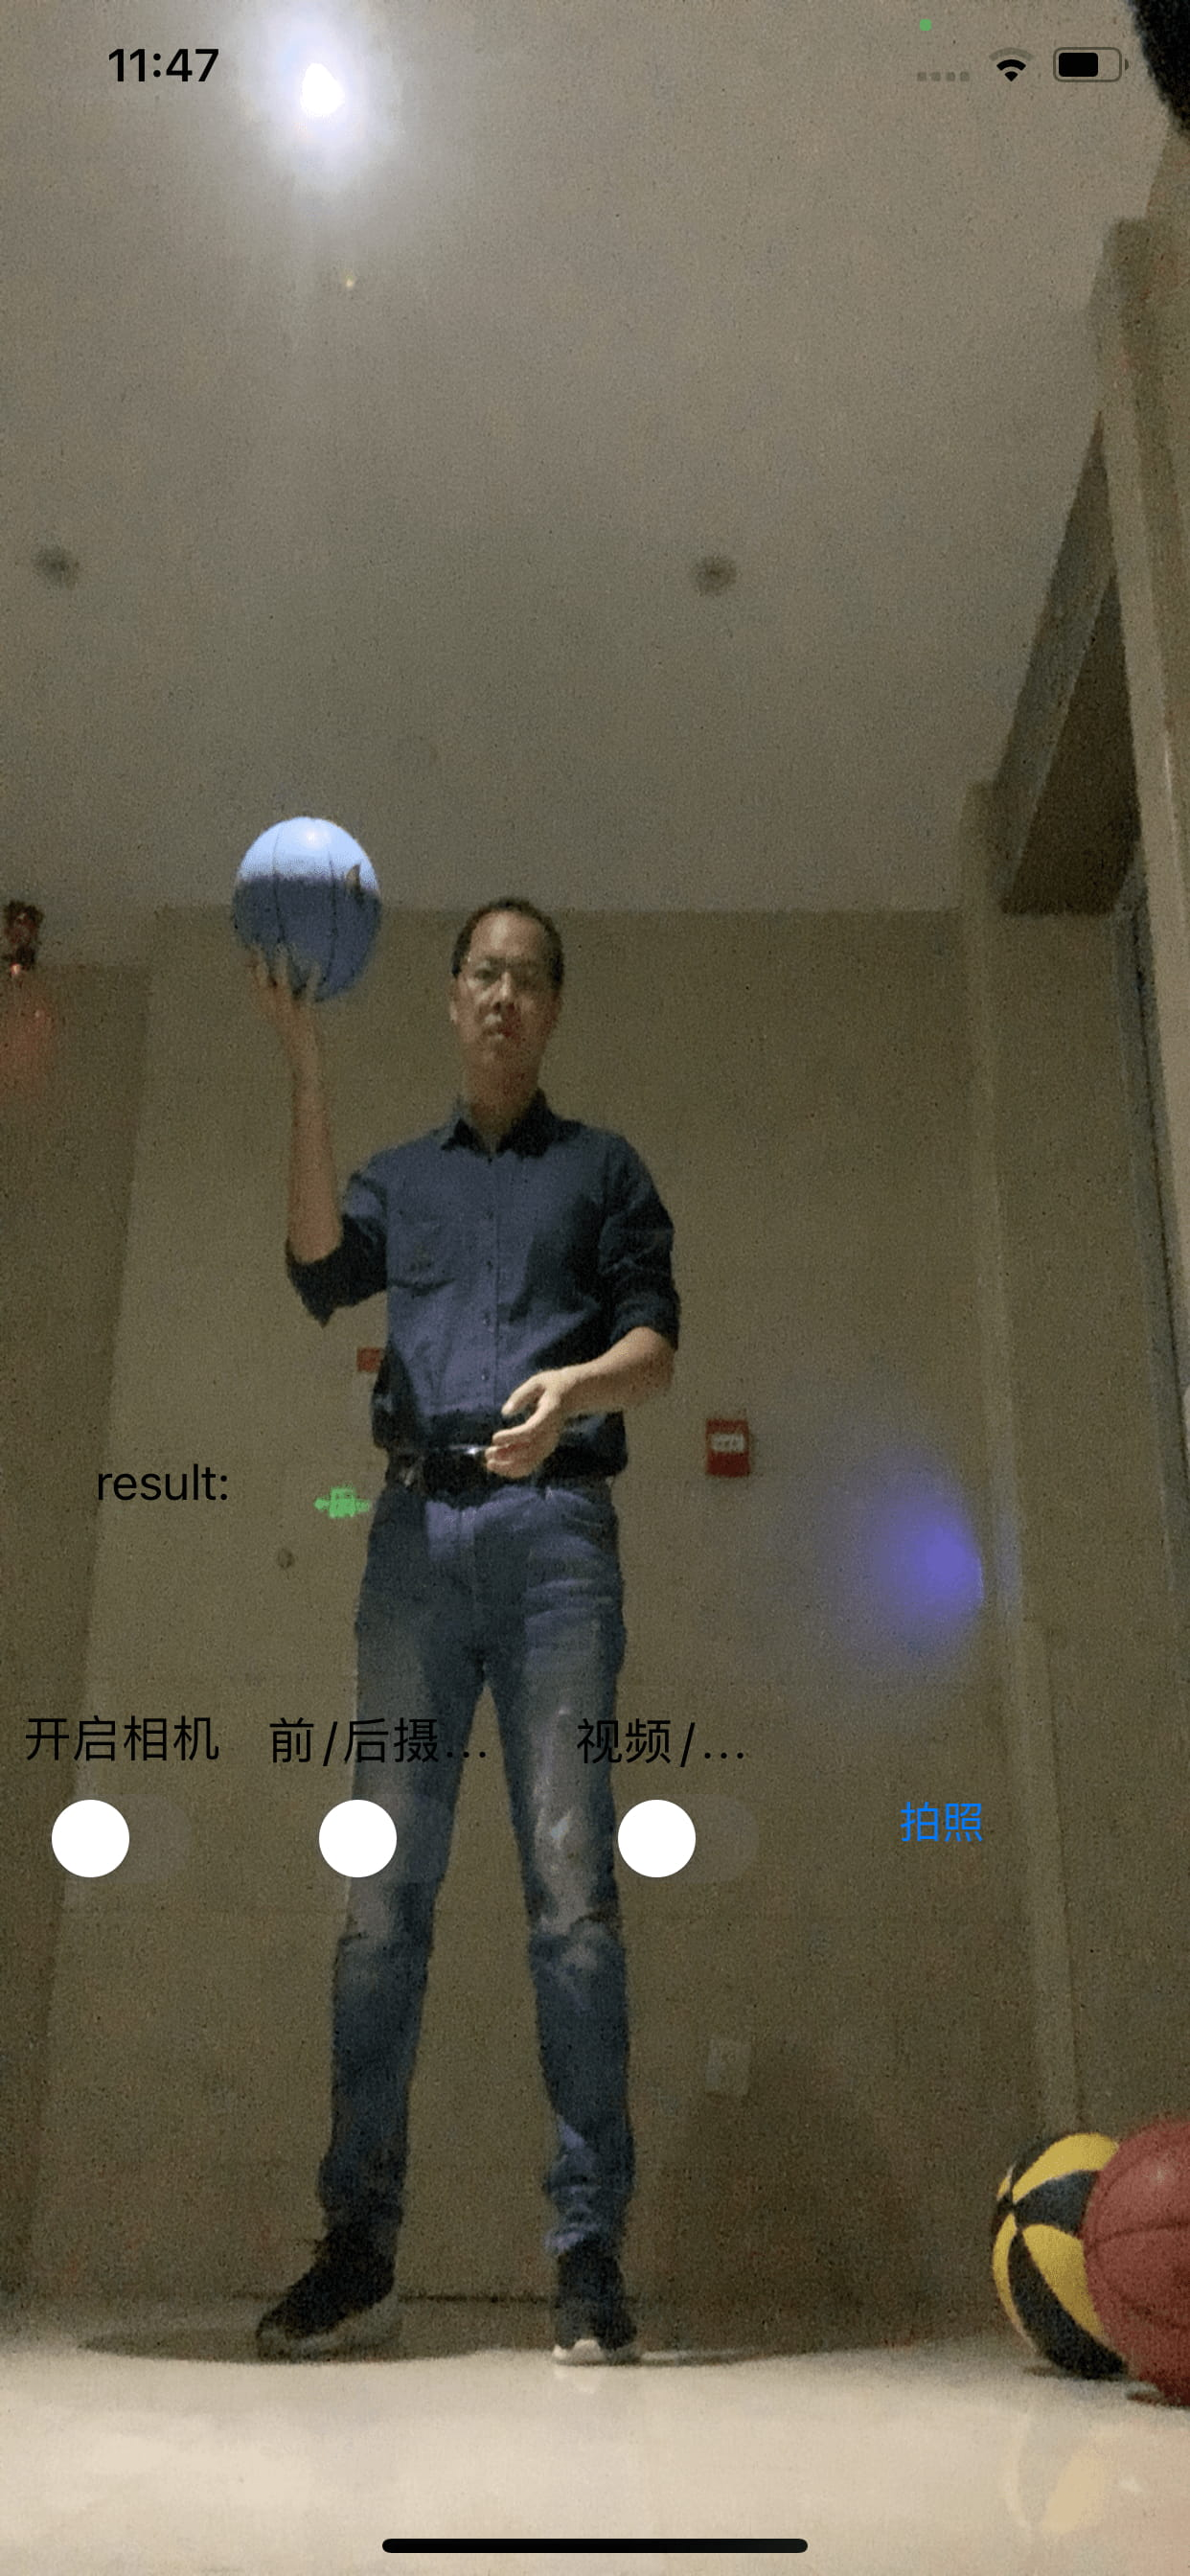ball: (989, 2127, 1109, 2390), (1088, 2127, 1190, 2405), (238, 812, 390, 996)
